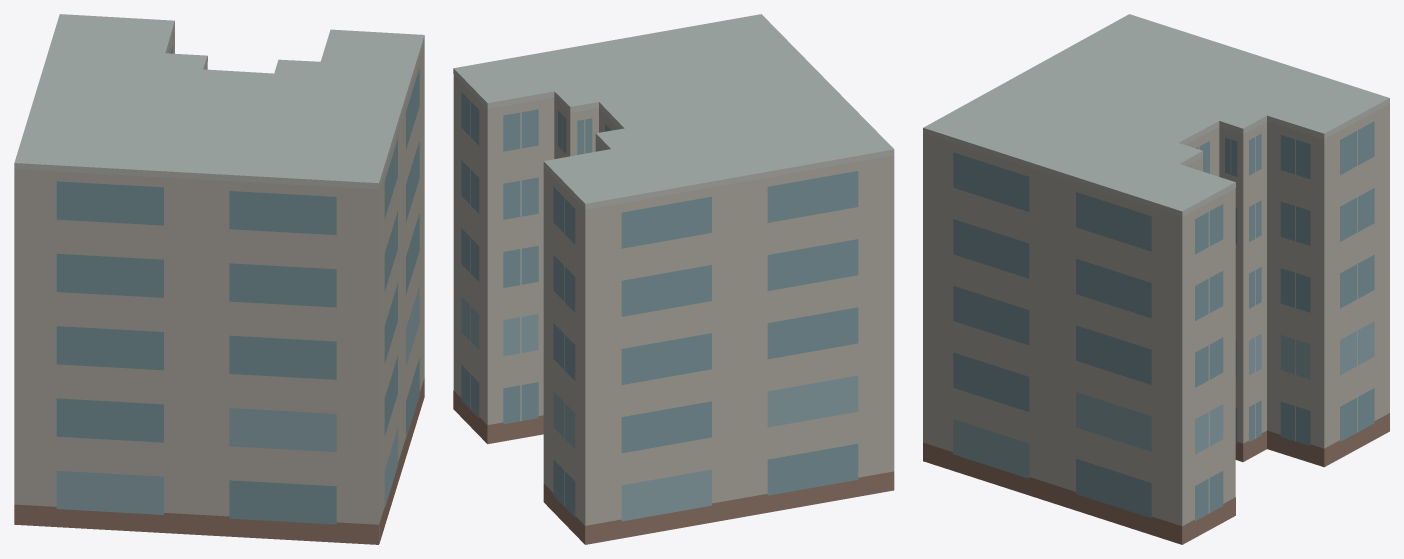
Rendered from survey-upis-32955731.glb.
3 views of the same model, side by side, from view 1: azimuth 30°, elevation 25°; view 2: azimuth 150°, elevation 25°; view 3: azimuth 270°, elevation 25° (orthographic). The views are drawn at different scales.
Visible parts, largest first — view 1: survey-upis-32955731.tmp; view 2: survey-upis-32955731.tmp; view 3: survey-upis-32955731.tmp.
Part boxes in pixels (x1,y1,x2,y2): survey-upis-32955731.tmp: (14,14,424,544); survey-upis-32955731.tmp: (453,14,894,544); survey-upis-32955731.tmp: (923,14,1389,544).
Size of the model in its own units: 18.36 by 14.45 by 18.34.
